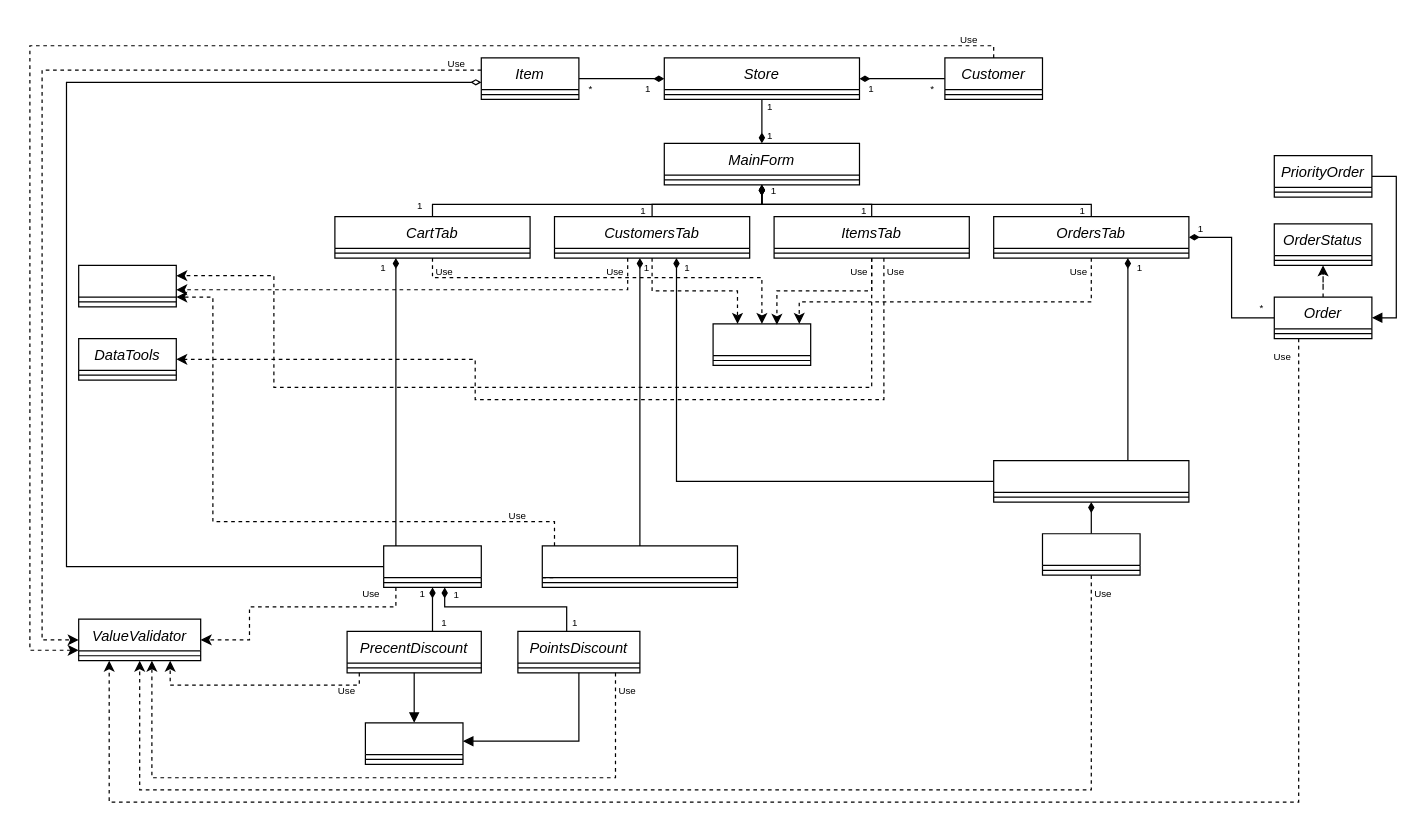
This 1427x833 diagram has some shape labels left out. Each missing label, with the centre of its shape:
Address: point (1090, 554)
AddressControl: point (1090, 480)
Cart: point (431, 566)
Category: point (126, 285)
Constants: point (761, 344)
DiscountModalWindow: point (639, 566)
IDiscount: point (413, 743)
